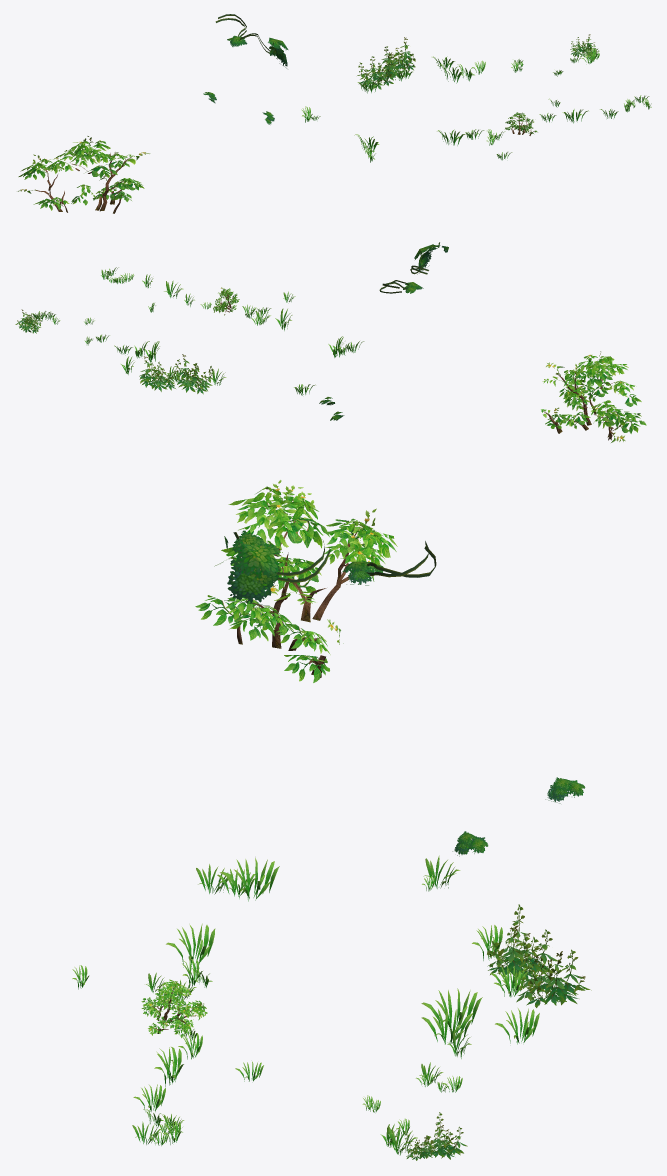
The model's file is boss4_zhibei_1.FBX.
3 views of the same model, one above another, from view 1: azimuth 30°, elevation 25°; view 2: azimuth 150°, elevation 25°; view 3: azimuth 270°, elevation 25° (orthographic). The views are drawn at different scales.
Visible parts, largest first — view 1: boss4_zhibei_1; view 2: boss4_zhibei_1; view 3: boss4_zhibei_1.
Boxes of the visible parts, x1,y1,x2,y2 form: boss4_zhibei_1: (17,14,651,213); boss4_zhibei_1: (15,242,646,442); boss4_zhibei_1: (72,480,591,1160).
Size of the model in its own units: 5262 by 1201 by 2006.
